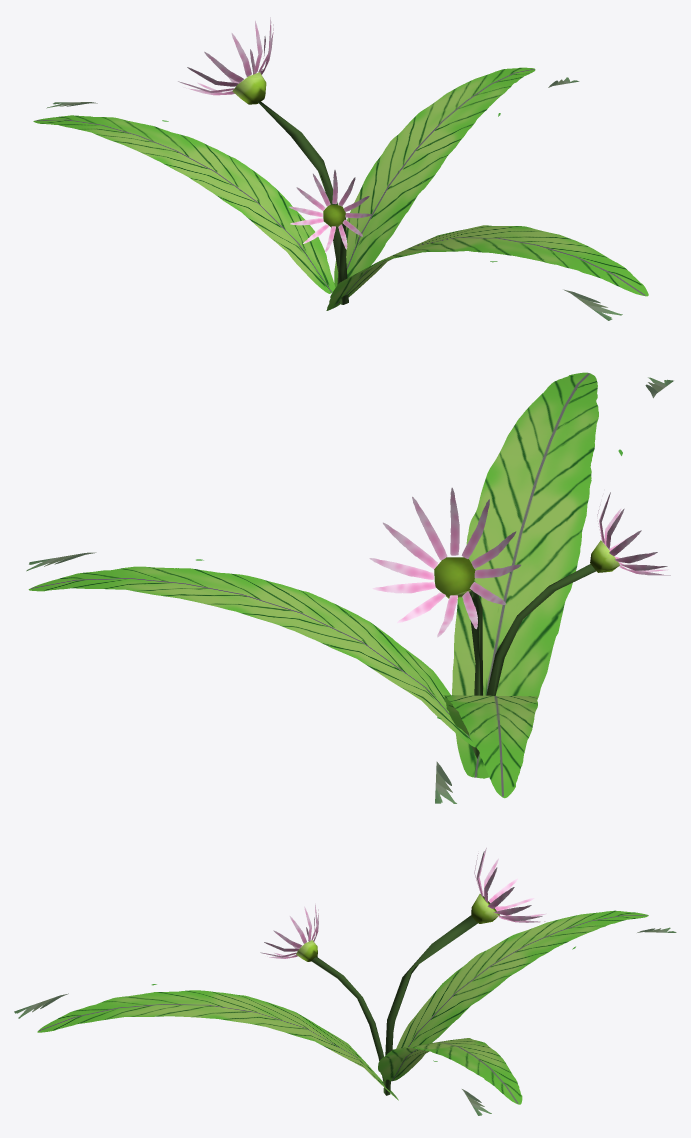
Rendered from FlowerFern2.fbx.
3 views of the same model, one above another, from view 1: azimuth 30°, elevation 25°; view 2: azimuth 150°, elevation 25°; view 3: azimuth 270°, elevation 25° (orthographic). The views are drawn at different scales.
Parts seen in each view (by area): view 1: leaf.005, leaf.006, leaf.003, petal.002, petal, stem.001, base.001; view 2: leaf.003, leaf.005, leaf.006, petal, stem, base.001, petal.002, stem.001; view 3: leaf.006, leaf.003, leaf.005, stem.001, petal, stem, petal.002, base.001.
Boxes of the visible parts, x1,y1,x2,y2 form: leaf.005: [334, 67, 579, 287]; leaf.006: [33, 102, 335, 293]; leaf.003: [326, 225, 648, 320]; petal.002: [289, 170, 371, 252]; petal: [178, 17, 273, 95]; stem.001: [257, 101, 348, 304]; base.001: [232, 72, 266, 104]; leaf.003: [452, 372, 673, 778]; leaf.005: [26, 552, 475, 747]; leaf.006: [435, 695, 538, 803]; petal: [369, 487, 520, 637]; stem: [486, 564, 595, 695]; base.001: [434, 557, 475, 598]; petal.002: [597, 492, 670, 575]; stem.001: [469, 590, 482, 758]; leaf.006: [396, 910, 676, 1048]; leaf.003: [14, 984, 398, 1100]; leaf.005: [378, 1038, 522, 1115]; stem.001: [383, 915, 477, 1095]; petal: [474, 847, 546, 922]; stem: [311, 957, 384, 1083]; petal.002: [260, 903, 318, 958]; base.001: [471, 894, 499, 923].
Size of the model in its own units: 166 by 92.76 by 223.
